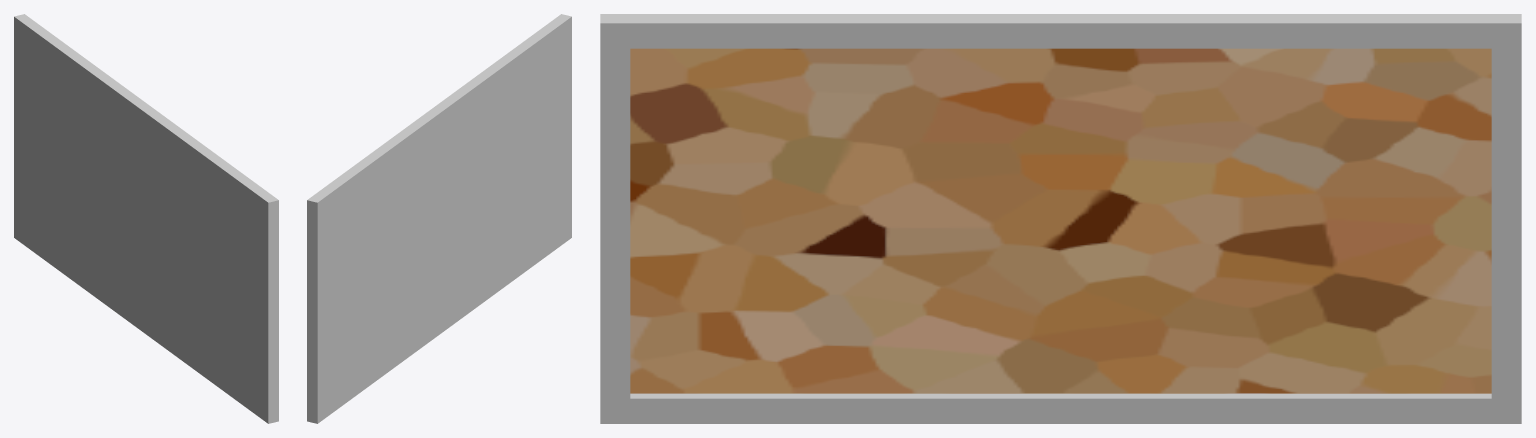
Rendered from Corkboard.fbx.
The picture shows the model from 3 angles, left to right: view 1: azimuth 30°, elevation 25°; view 2: azimuth 150°, elevation 25°; view 3: azimuth 270°, elevation 25°; orthographic projection. The views are drawn at different scales.
Visible parts, largest first — view 1: CorkBoard; view 2: CorkBoard; view 3: CorkBoard.
Boxes of the visible parts, <box> form: CorkBoard: <box>14,14,278,423</box>; CorkBoard: <box>307,14,571,423</box>; CorkBoard: <box>600,14,1521,423</box>.
Bounding box in the file's own units: 0.05 × 1 × 2.08.
Materials: 2 (1 with a texture image).
